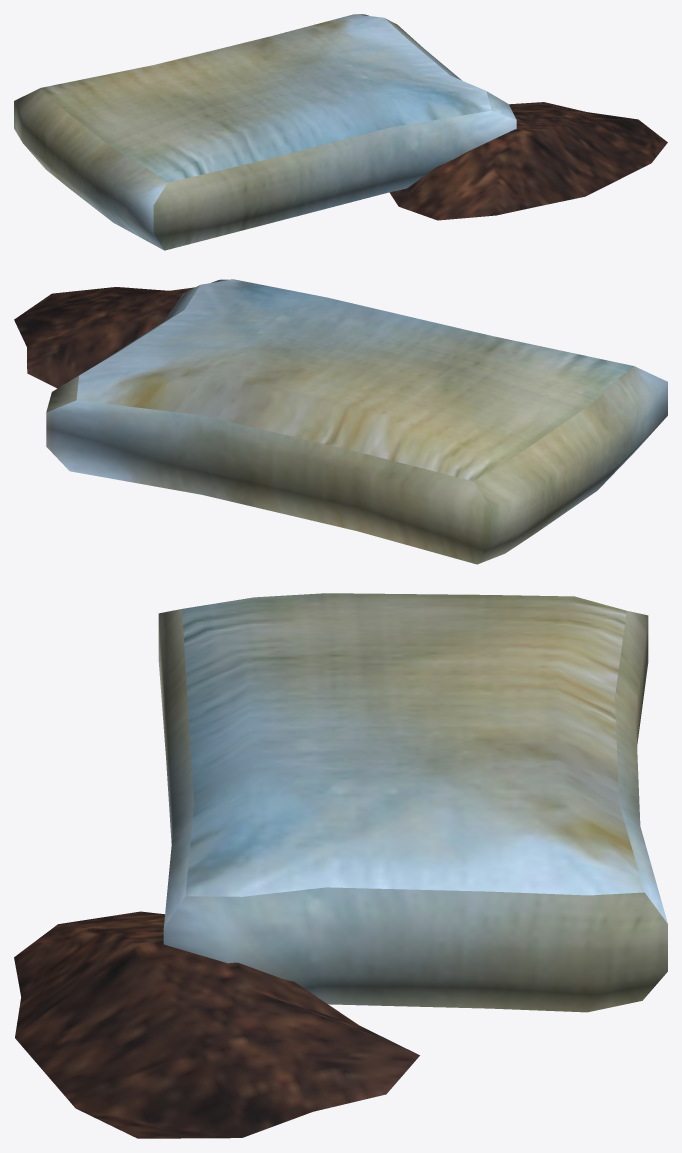
The model's file is ripped_soil_bag.FBX.
3 renders of one model, top to bottom at view 1: azimuth 30°, elevation 25°; view 2: azimuth 150°, elevation 25°; view 3: azimuth 270°, elevation 25°, orthographic. The views are drawn at different scales.
Parts seen in each view (by area): view 1: ripped_soil_bag; view 2: ripped_soil_bag; view 3: ripped_soil_bag.
Part boxes in pixels (box(x1,y1,x2,y2)): ripped_soil_bag: box(14, 14, 667, 250); ripped_soil_bag: box(14, 279, 667, 564); ripped_soil_bag: box(14, 593, 667, 1138).
Size of the model in its own units: 142 by 21.95 by 89.69.
